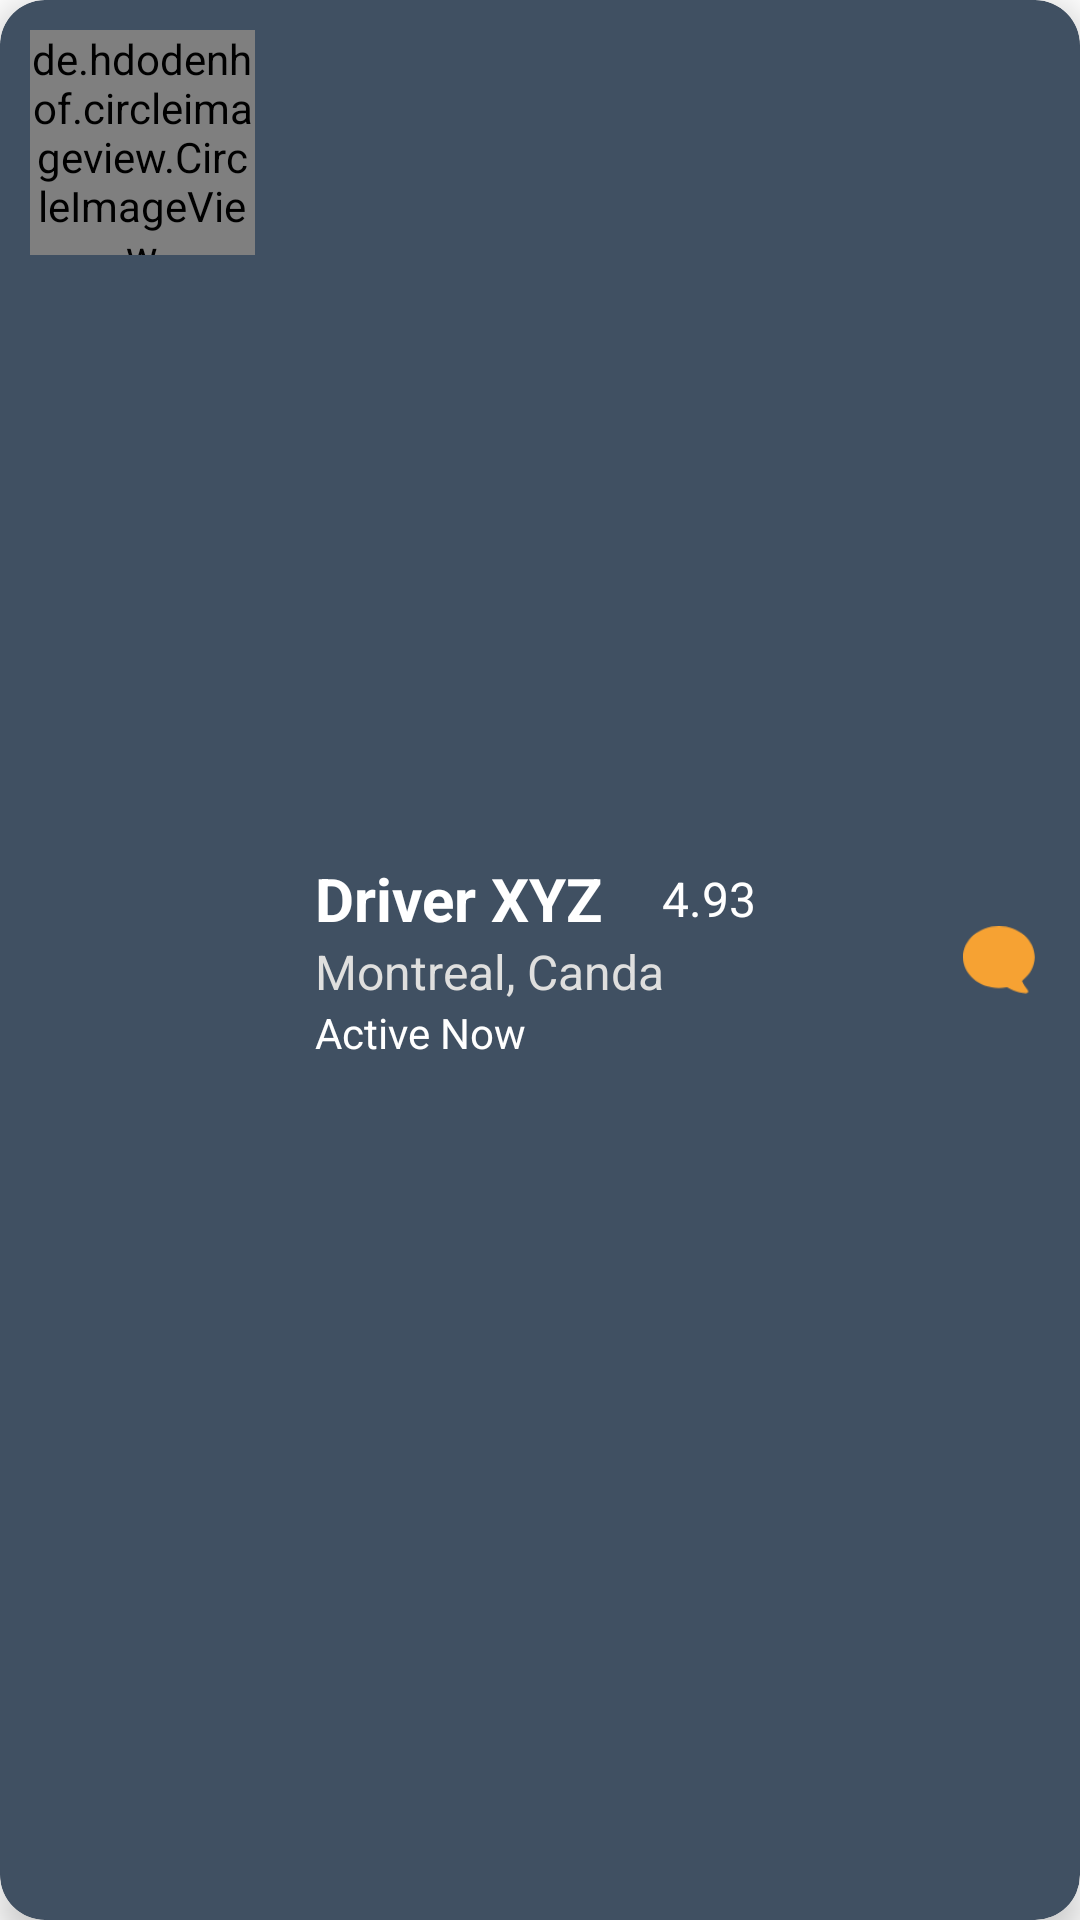

Where to tap for icons on this 1080px×1920px app screen, as [x,y]:
message: [999,960]
